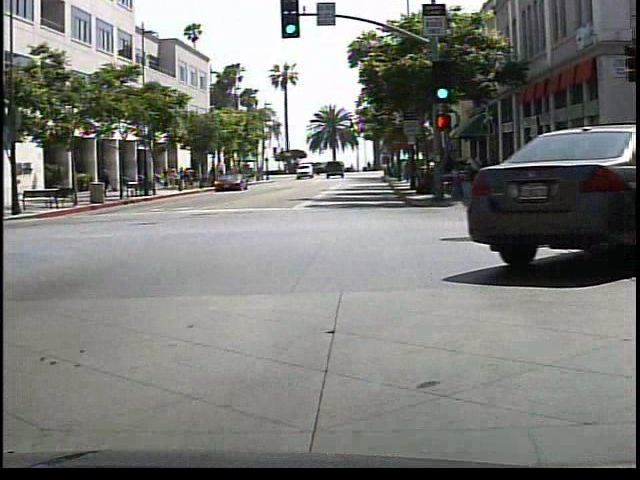person: (97, 161, 115, 197)
